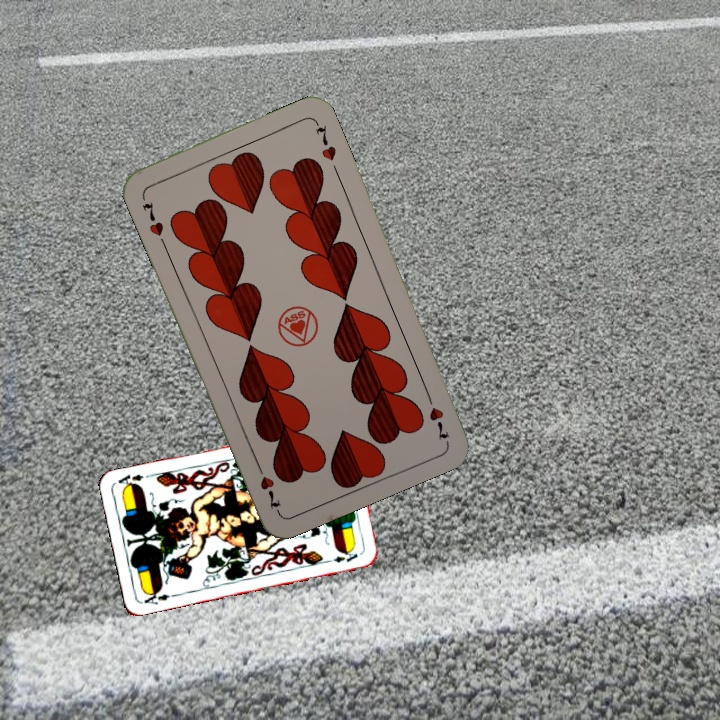EA: (138, 586, 172, 607)
H7: (422, 387, 452, 443), (138, 197, 166, 239)
